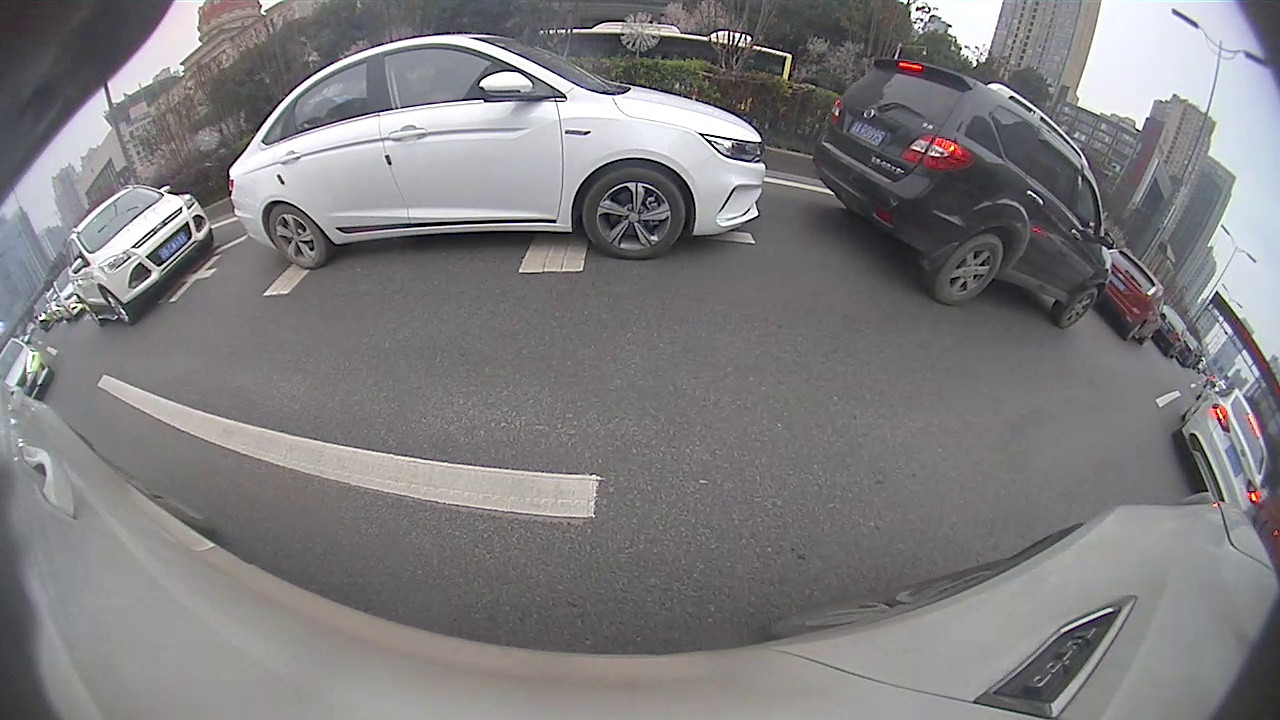car: (227, 34, 768, 268), (811, 55, 1116, 329), (63, 184, 217, 327), (1173, 385, 1268, 509), (1098, 249, 1164, 347), (0, 336, 54, 401)
front: (581, 163, 685, 261), (1056, 282, 1098, 329), (102, 288, 133, 326)
rear: (929, 233, 1005, 307), (269, 203, 329, 268)
